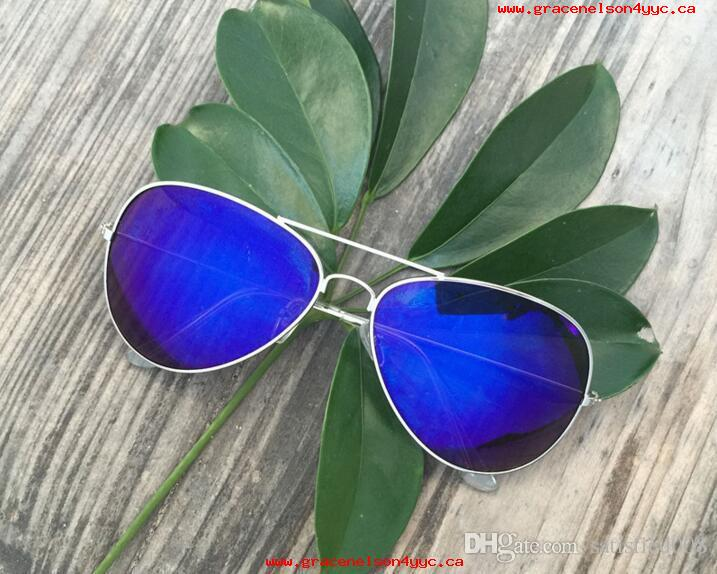sunglasses: (55, 167, 621, 473)
